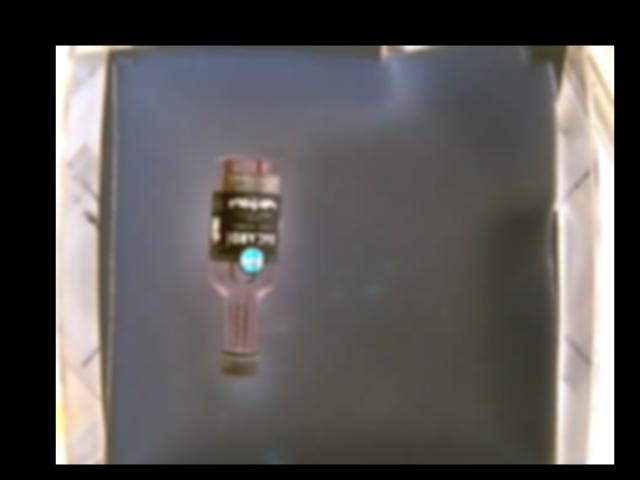Bottle: (203, 155, 283, 378)
